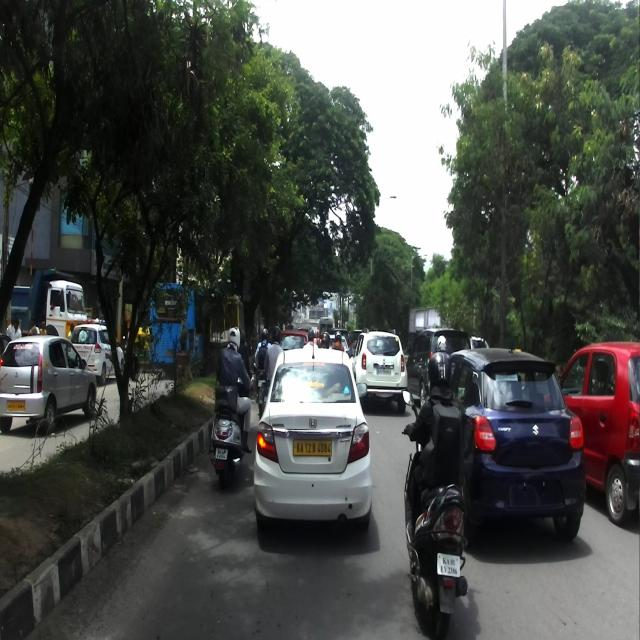Car_Honda: (253, 334, 372, 535)
Car_Hyundai: (556, 339, 639, 526)
Car_Maruti-Suzuki: (446, 342, 585, 542), (69, 317, 127, 384)
Car_Renault: (348, 325, 408, 413)
Car_TATA: (0, 333, 96, 432)
Car_Toyota: (406, 326, 471, 409)
scooter: (400, 390, 467, 638), (208, 372, 252, 488)
